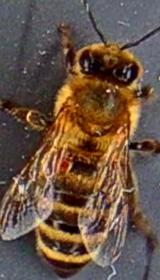varroa_mite: (42, 140, 82, 187)
